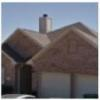chimneys: (40, 12, 52, 36)
